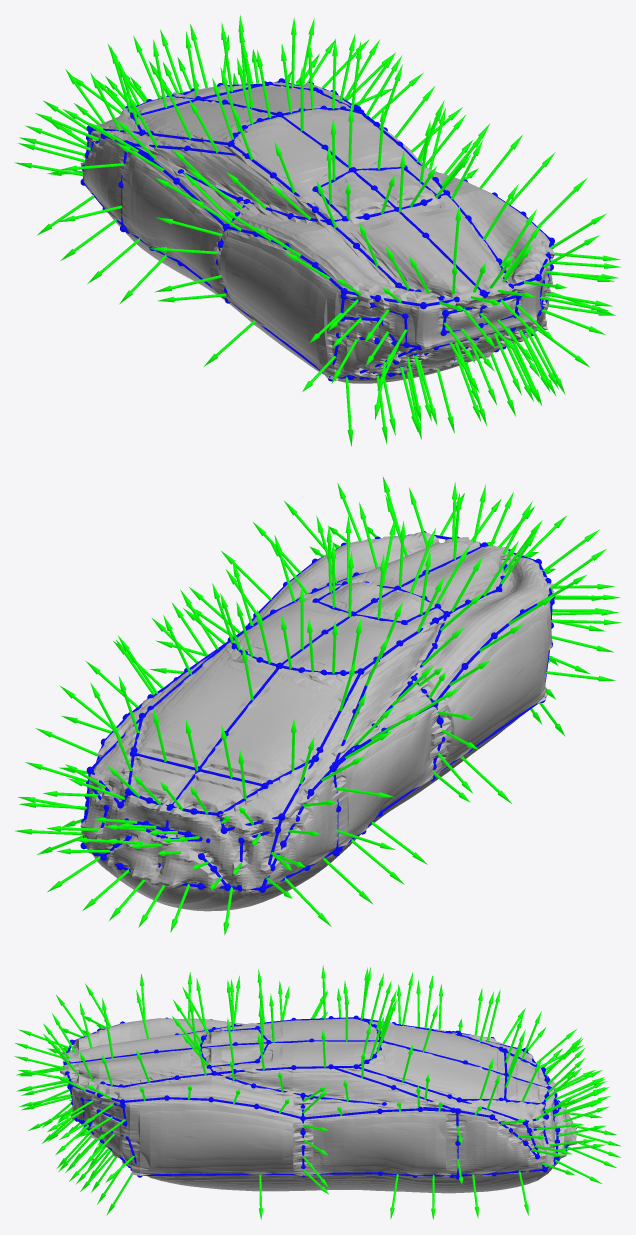
File: ils_car3.gltf
3 views of the same model, one above another, from view 1: azimuth 30°, elevation 25°; view 2: azimuth 150°, elevation 25°; view 3: azimuth 270°, elevation 25° (orthographic). The views are drawn at different scales.
Bounding box in the file's own units: 0.5441 × 0.3802 × 1.1.
